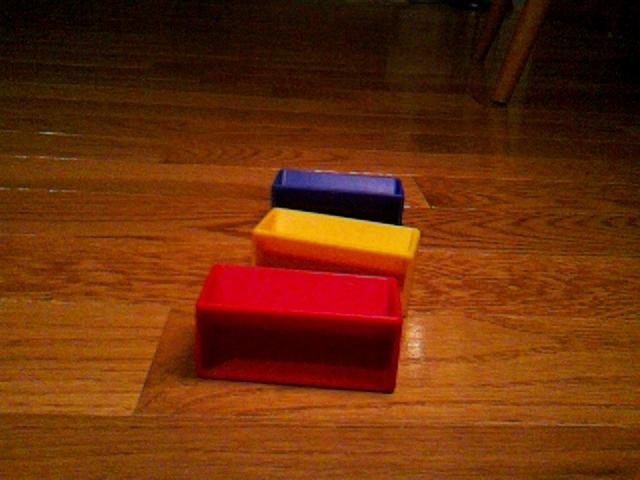blue: (270, 166, 406, 226)
red: (193, 261, 404, 394)
yellow: (252, 206, 422, 317)
